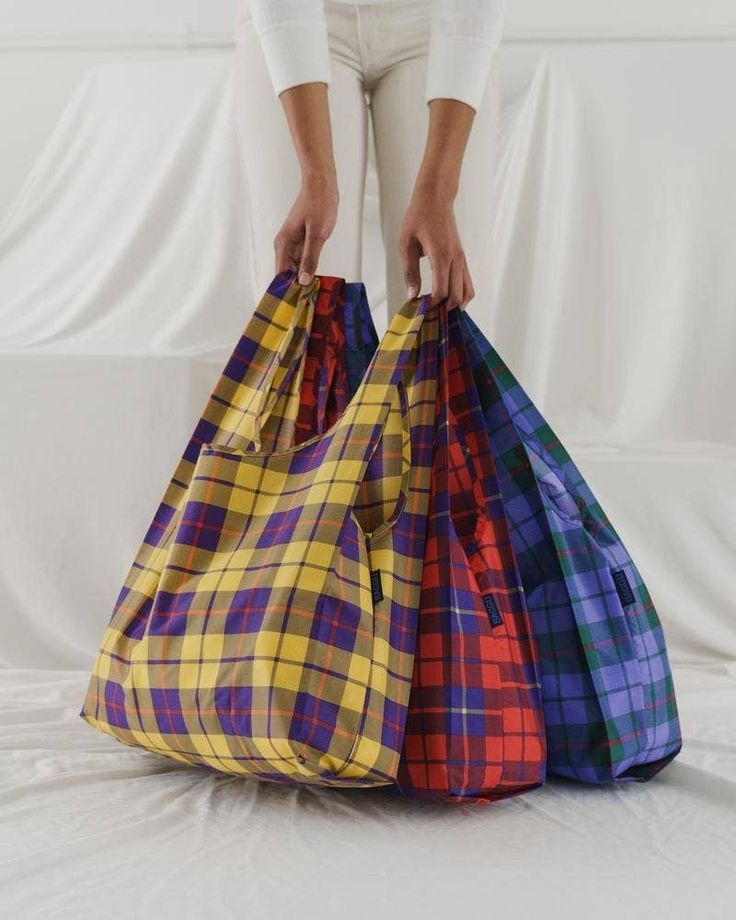nylon: (79, 266, 684, 806)
